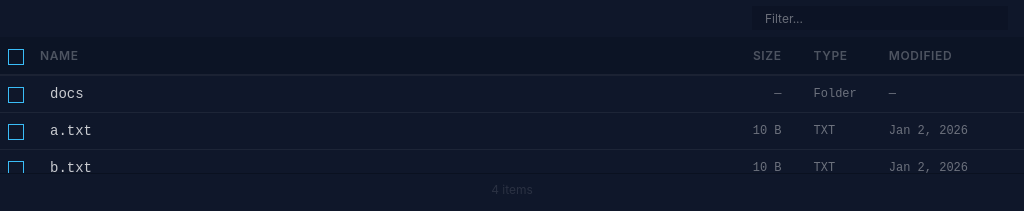
Test case: FileExplorer › context menu › hides file-only actions for a folder
The width and height of the screenshot is (1024, 211).
Expected: the text "docs" is shown, [50, 84, 84, 104]
Right-click the text "docs" at coordinates (512, 94), box [0, 76, 1023, 113]
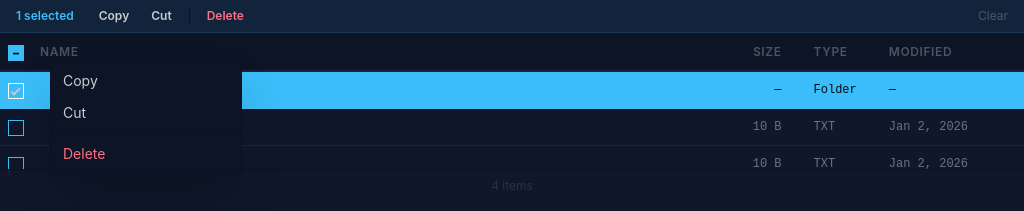
Result: the 2nd button "Delete" is shown at [51, 138, 241, 170]
